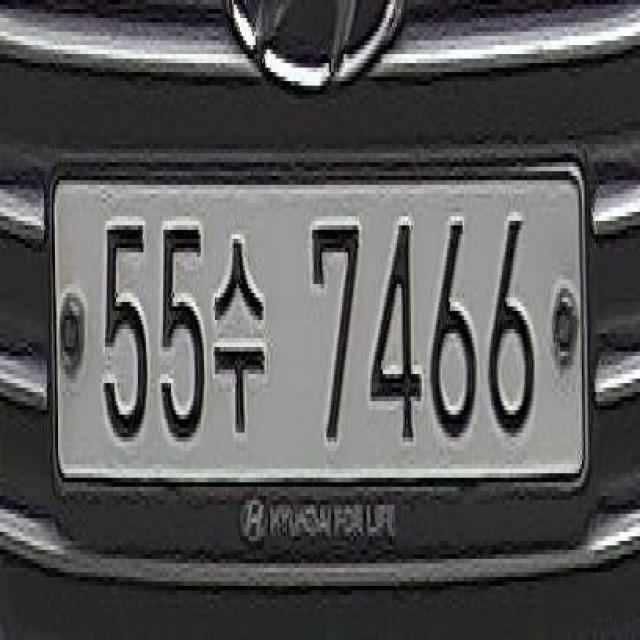4: (368, 202, 424, 454)
5: (154, 198, 208, 440), (99, 202, 150, 440)
6: (484, 200, 540, 446), (426, 201, 479, 448)
7: (305, 197, 364, 450)
license_plate: (42, 125, 596, 520)
su: (212, 205, 268, 440)
